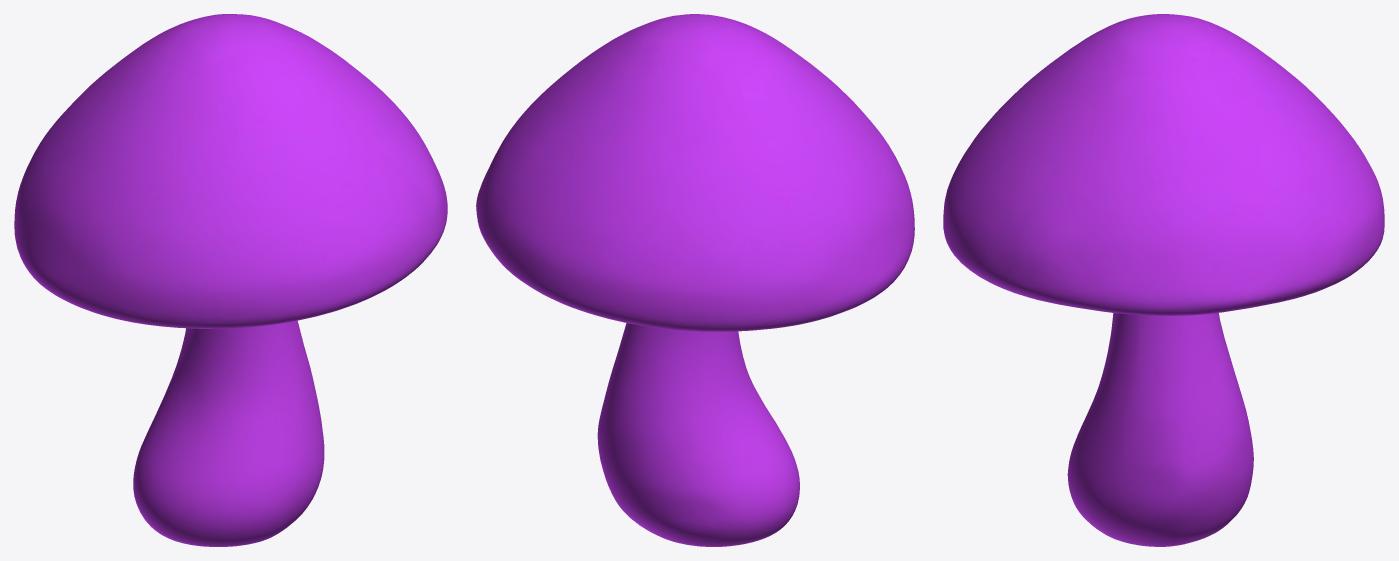
The model's file is shroom_purple.glb.
3 renders of one model, left to right at view 1: azimuth 30°, elevation 25°; view 2: azimuth 150°, elevation 25°; view 3: azimuth 270°, elevation 25°, orthographic.
Parts seen in each view (by area): view 1: tripo_node_70cb0f8a-e769-41dd-8684-b3cb4d95347c; view 2: tripo_node_70cb0f8a-e769-41dd-8684-b3cb4d95347c; view 3: tripo_node_70cb0f8a-e769-41dd-8684-b3cb4d95347c.
Boxes of the visible parts, x1,y1,x2,y2 form: tripo_node_70cb0f8a-e769-41dd-8684-b3cb4d95347c: [14, 14, 447, 546]; tripo_node_70cb0f8a-e769-41dd-8684-b3cb4d95347c: [476, 14, 914, 546]; tripo_node_70cb0f8a-e769-41dd-8684-b3cb4d95347c: [943, 14, 1384, 546].
Bounding box in the file's own units: 0.8031 × 1 × 0.7991.
1 material, 1 textured.
